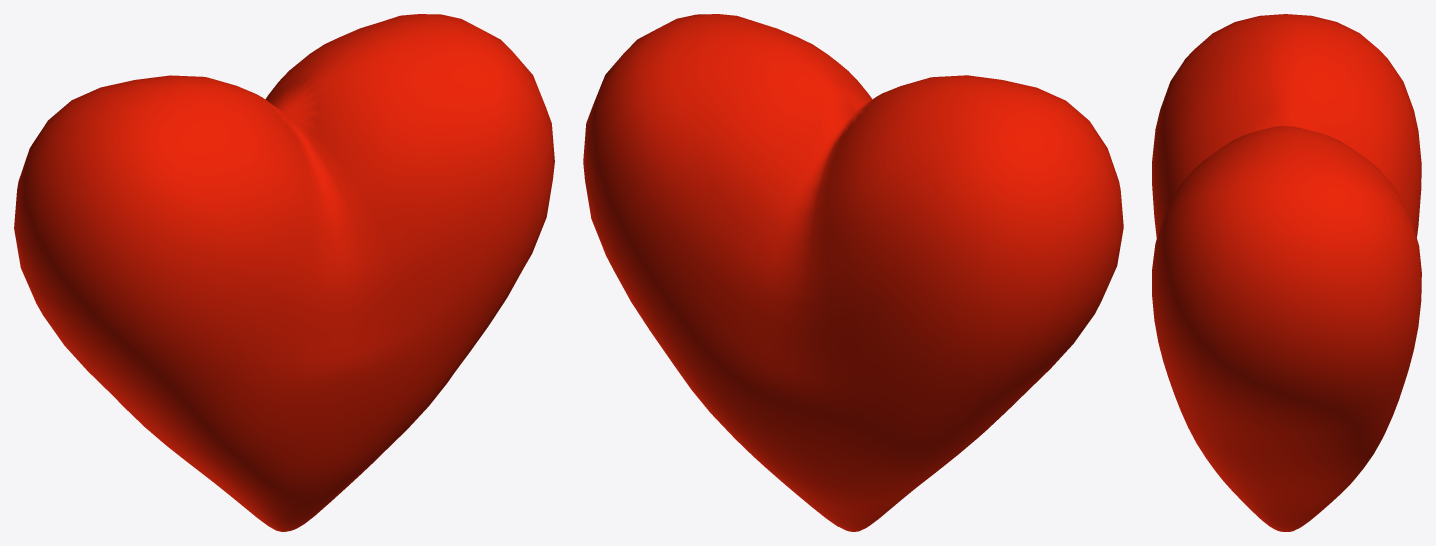
File: hearticon.fbx
3 views of the same model, side by side, from view 1: azimuth 30°, elevation 25°; view 2: azimuth 150°, elevation 25°; view 3: azimuth 270°, elevation 25° (orthographic). The views are drawn at different scales.
Visible parts, largest first — view 1: Sphere.001; view 2: Sphere.001; view 3: Sphere.001.
Boxes of the visible parts, x1,y1,x2,y2 form: Sphere.001: [14, 14, 554, 531]; Sphere.001: [583, 14, 1123, 531]; Sphere.001: [1152, 14, 1421, 531].
Size of the model in its own units: 216 by 196 by 107.
